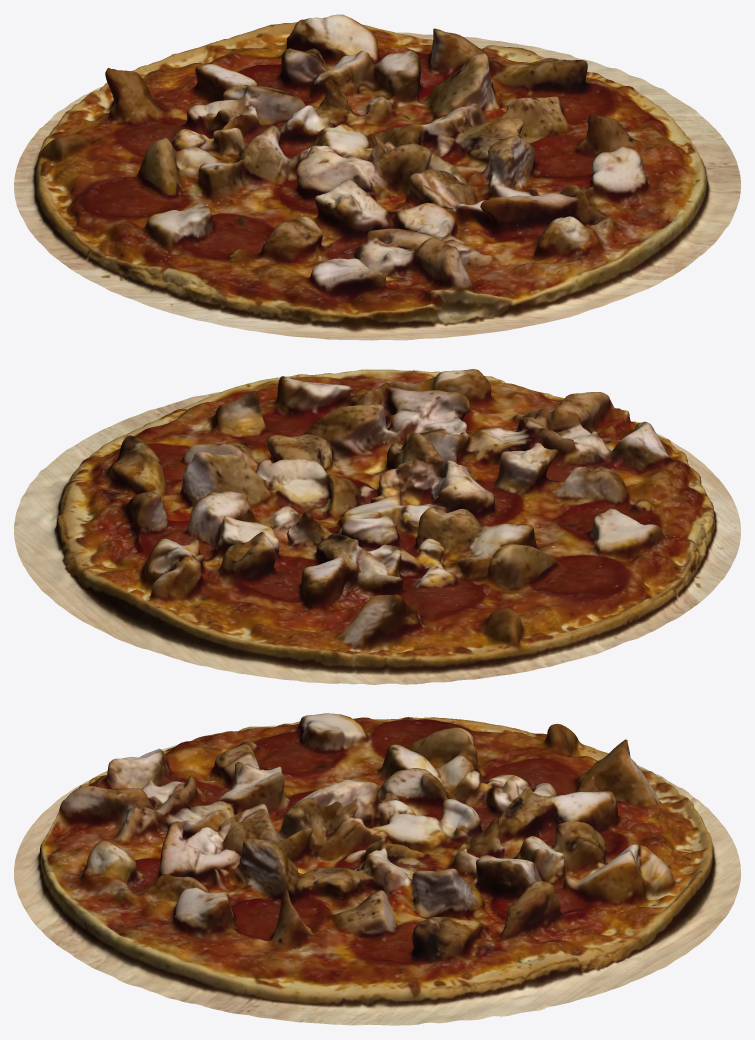
3 renders of one model, top to bottom at view 1: azimuth 30°, elevation 25°; view 2: azimuth 150°, elevation 25°; view 3: azimuth 270°, elevation 25°, orthographic.
Parts seen in each view (by area): view 1: mesh; view 2: mesh; view 3: mesh.
Boxes of the visible parts, left/top/right/bottom form: mesh: left=14, top=14, right=740, bottom=340; mesh: left=14, top=369, right=740, bottom=684; mesh: left=14, top=713, right=740, bottom=1025.
Bounding box in the file's own units: 0.866 × 0.0957 × 0.866.
1 material, 1 textured.
